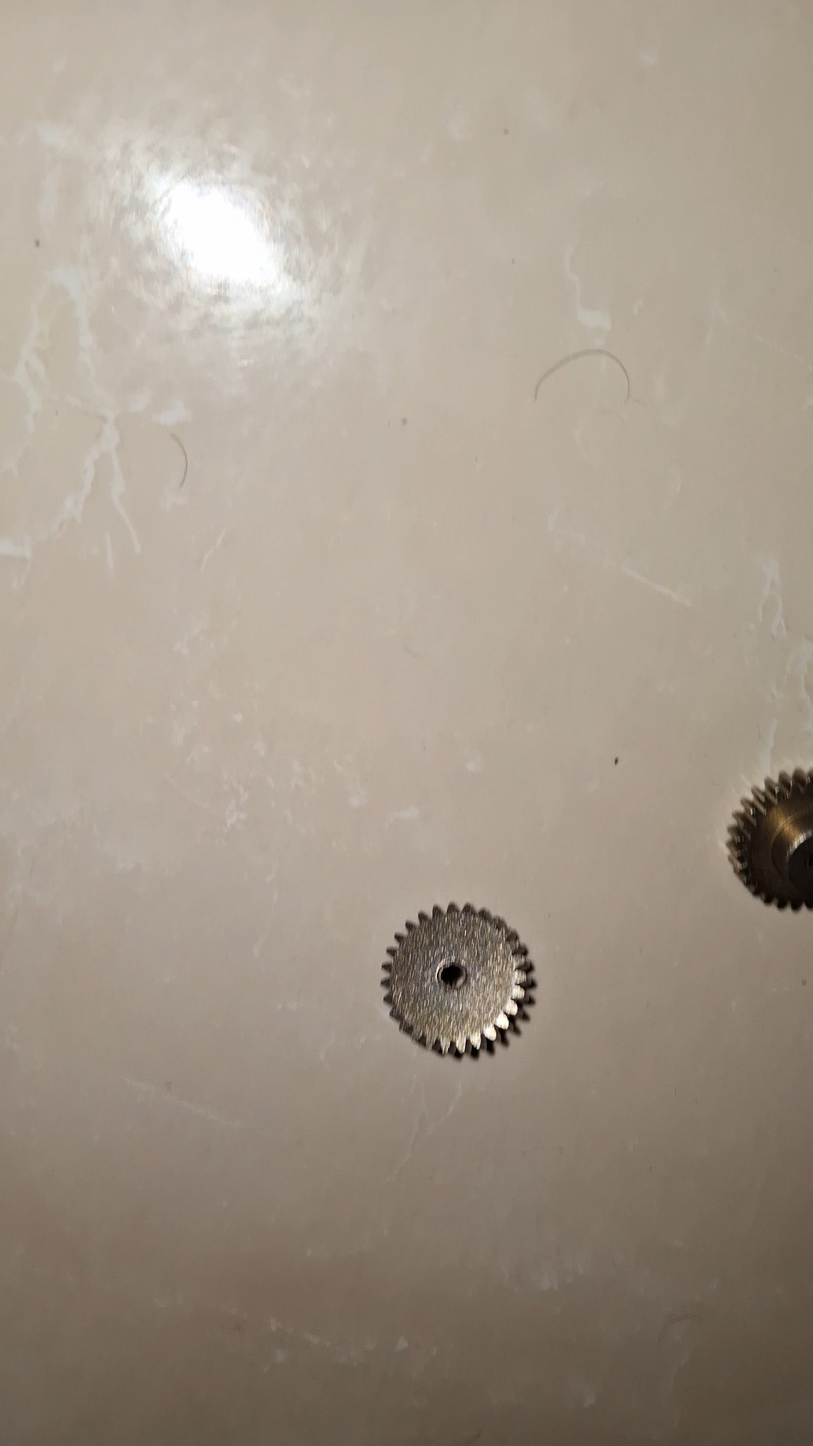spur gear: (383, 904, 532, 1054), (728, 769, 813, 910)
